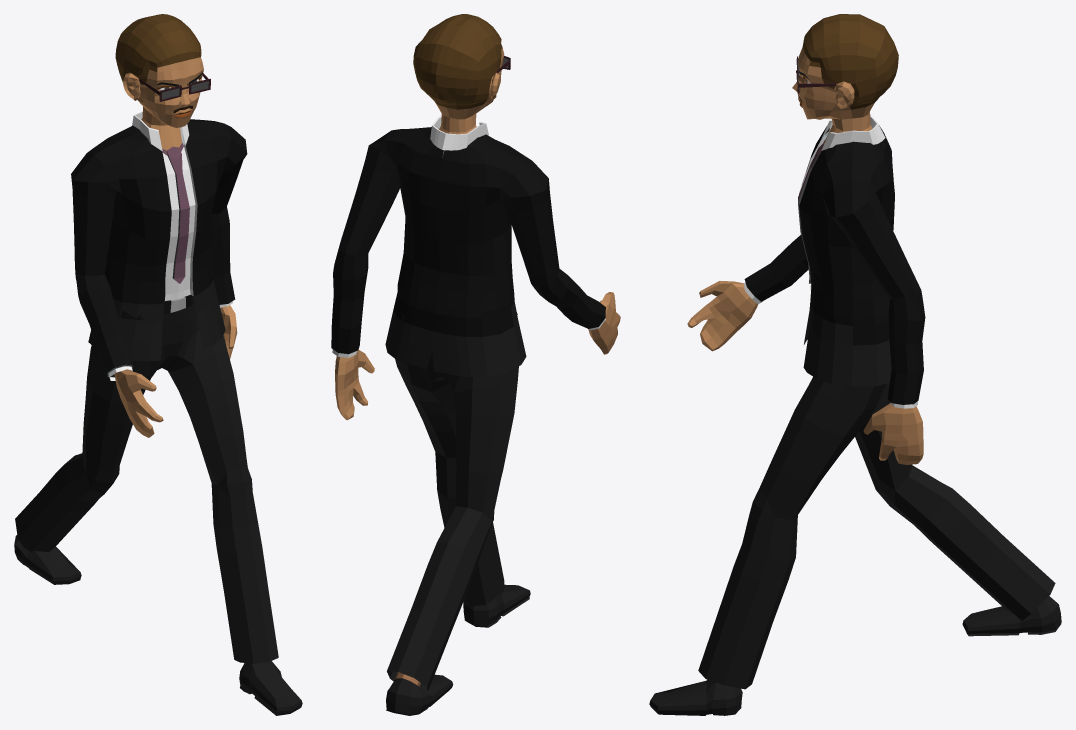
Rendered from TeacherMale_B_Walk.fbx.
The picture shows the model from 3 angles, left to right: view 1: azimuth 30°, elevation 25°; view 2: azimuth 150°, elevation 25°; view 3: azimuth 270°, elevation 25°; orthographic projection. The views are drawn at different scales.
Visible parts, largest first — view 1: TeacherMale_B_Walk; view 2: TeacherMale_B_Walk; view 3: TeacherMale_B_Walk.
Boxes of the visible parts, x1,y1,x2,y2 form: TeacherMale_B_Walk: [14, 14, 302, 715]; TeacherMale_B_Walk: [331, 14, 620, 715]; TeacherMale_B_Walk: [649, 14, 1061, 715].
Size of the model in its own units: 0.2953 by 0.9178 by 0.5099.
